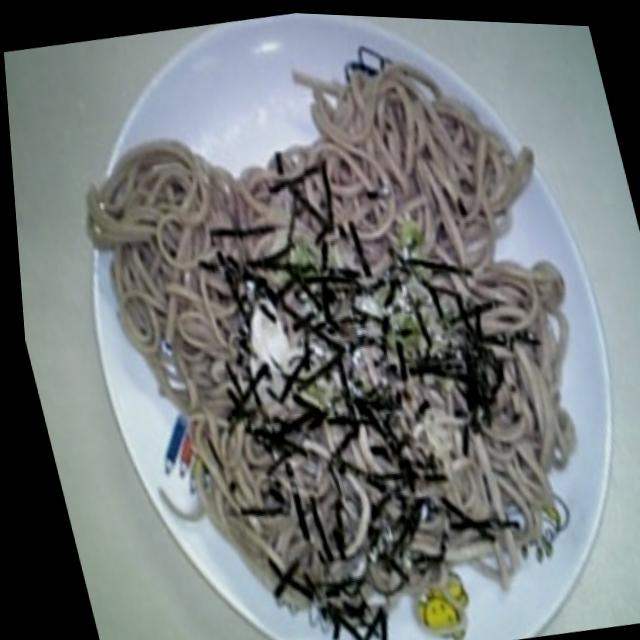面条主食: (3, 0, 604, 640)
